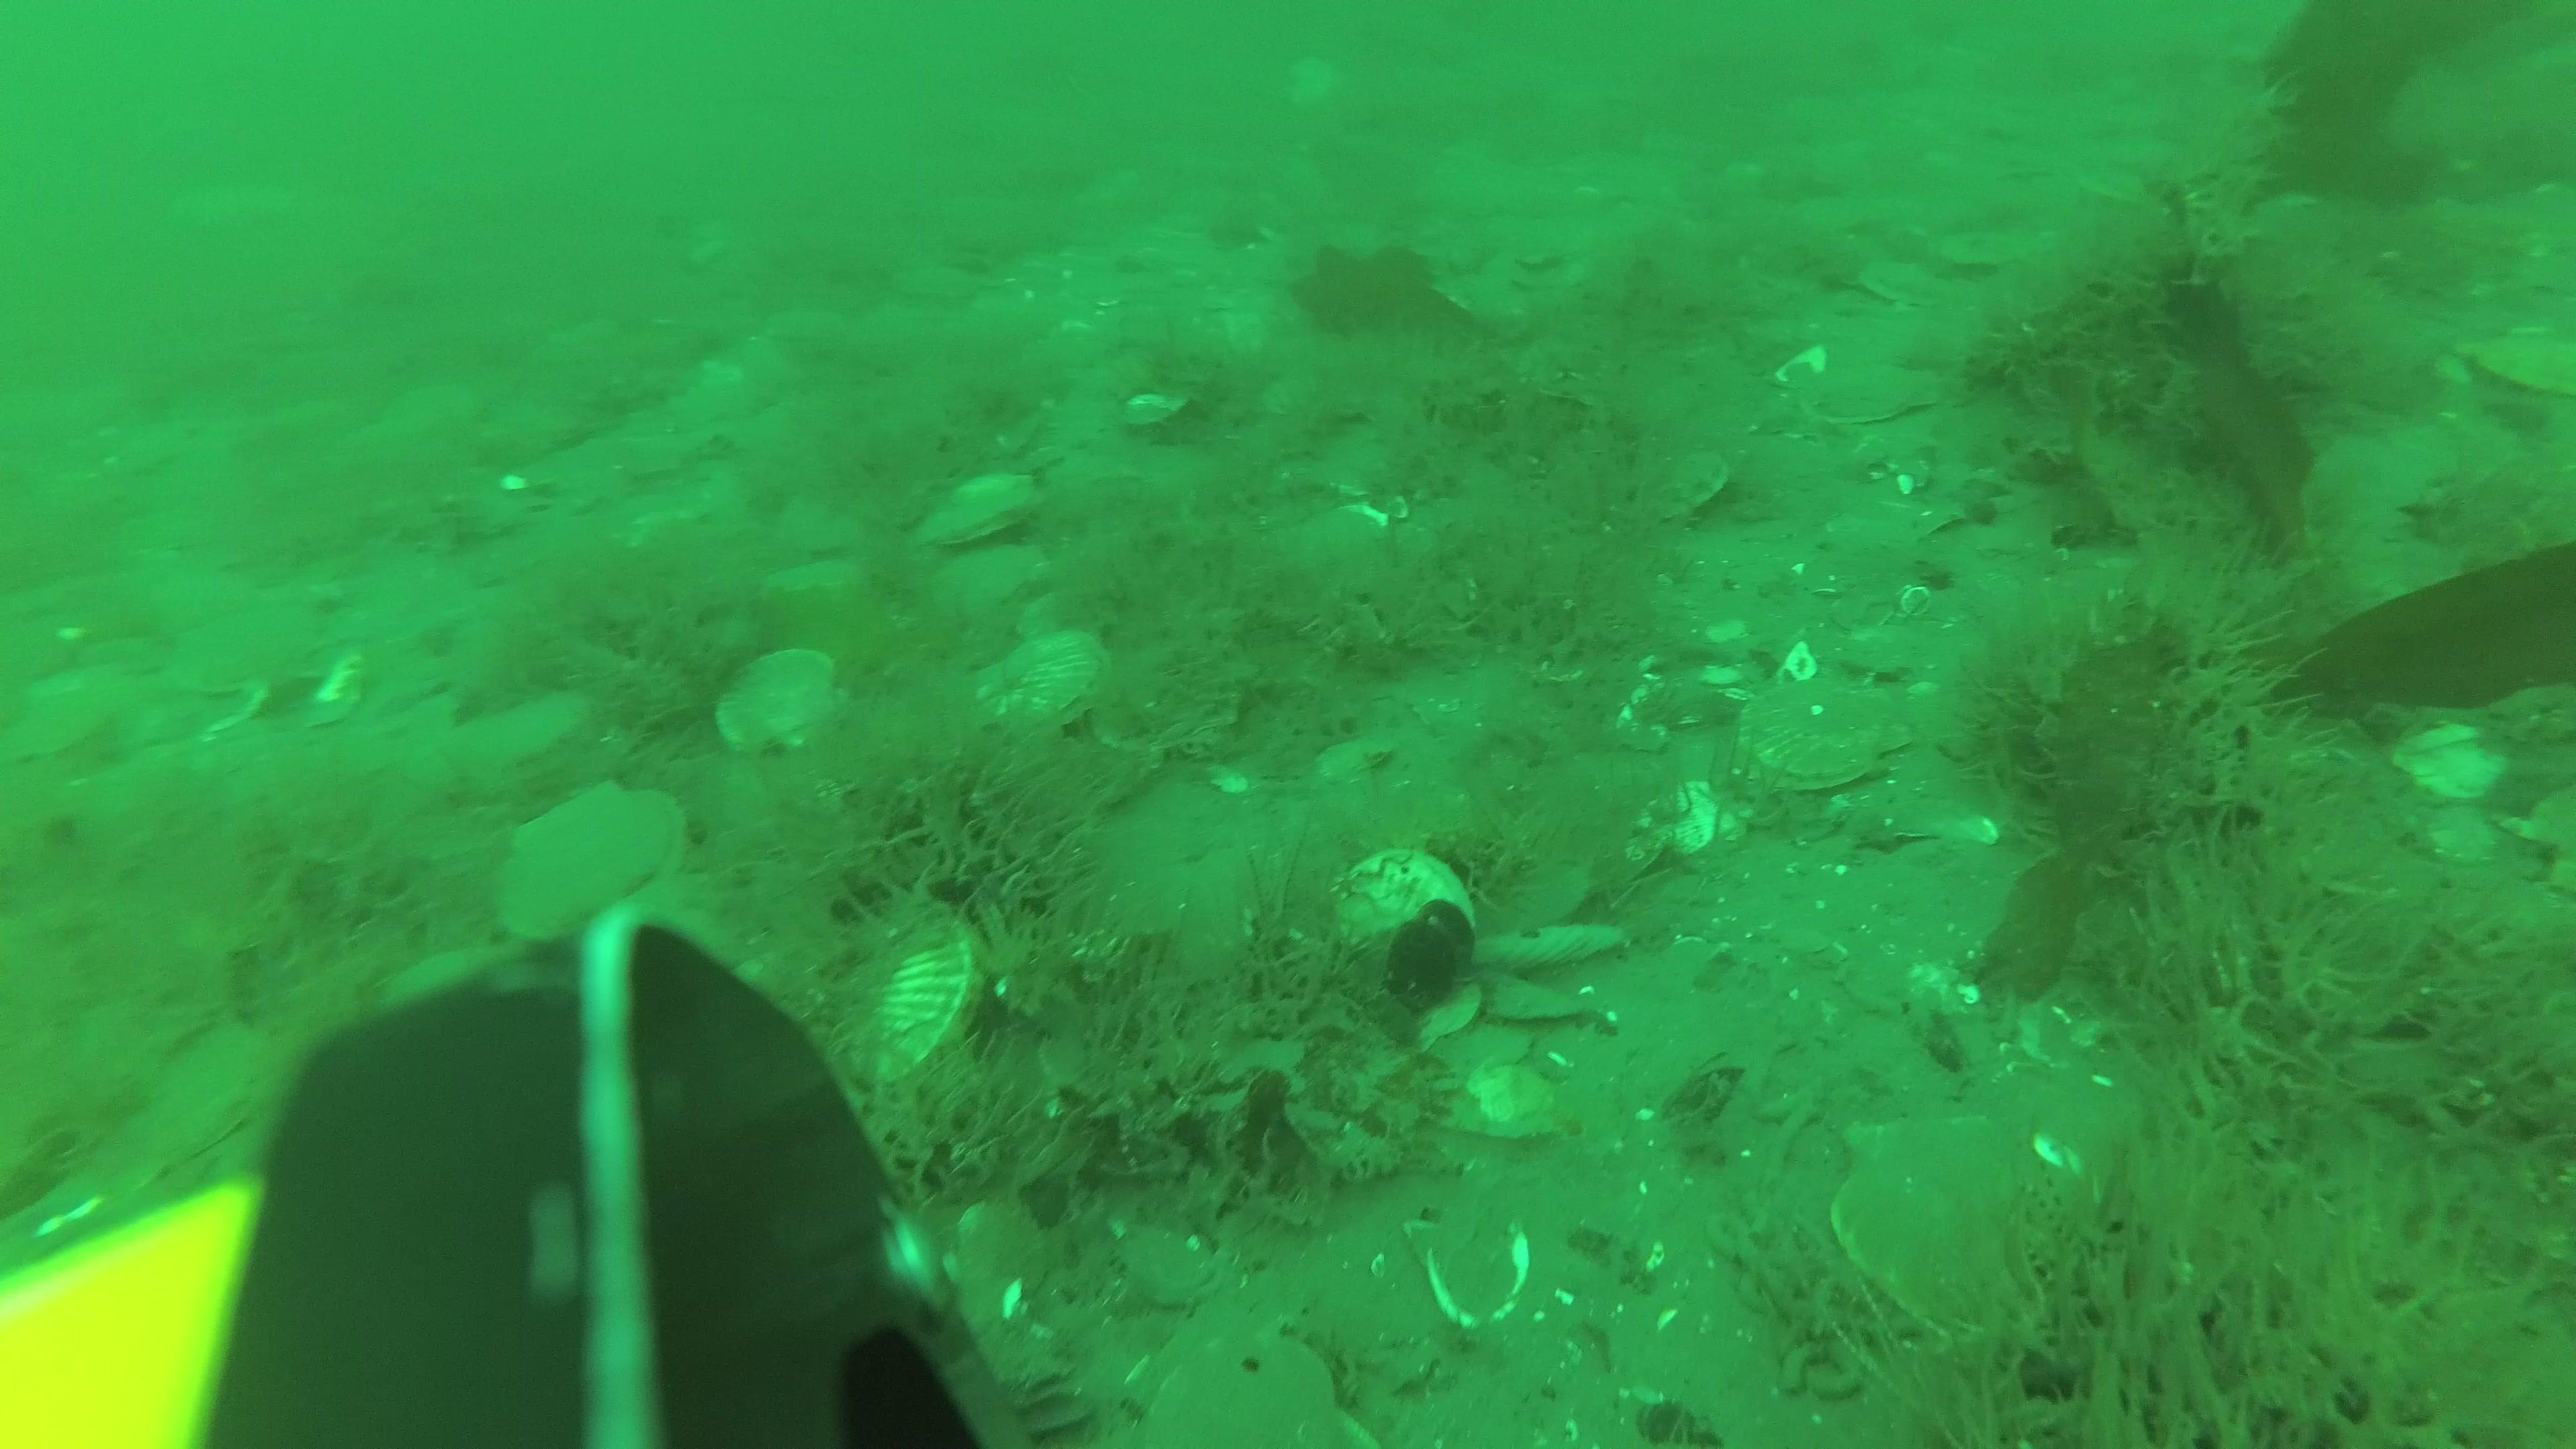scallop: (1831, 1122, 2065, 1323), (830, 895, 982, 1092), (497, 789, 701, 934), (1748, 672, 1909, 800), (1330, 840, 1476, 955), (179, 593, 320, 701), (985, 630, 1122, 740), (449, 688, 586, 791), (927, 545, 1053, 648), (1440, 1049, 1553, 1161), (718, 646, 842, 747), (1806, 356, 1948, 435), (916, 467, 1033, 554), (2399, 722, 2509, 812)
